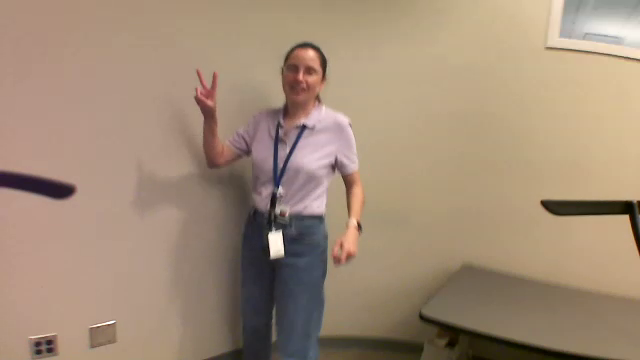peace: (191, 65, 224, 115)
